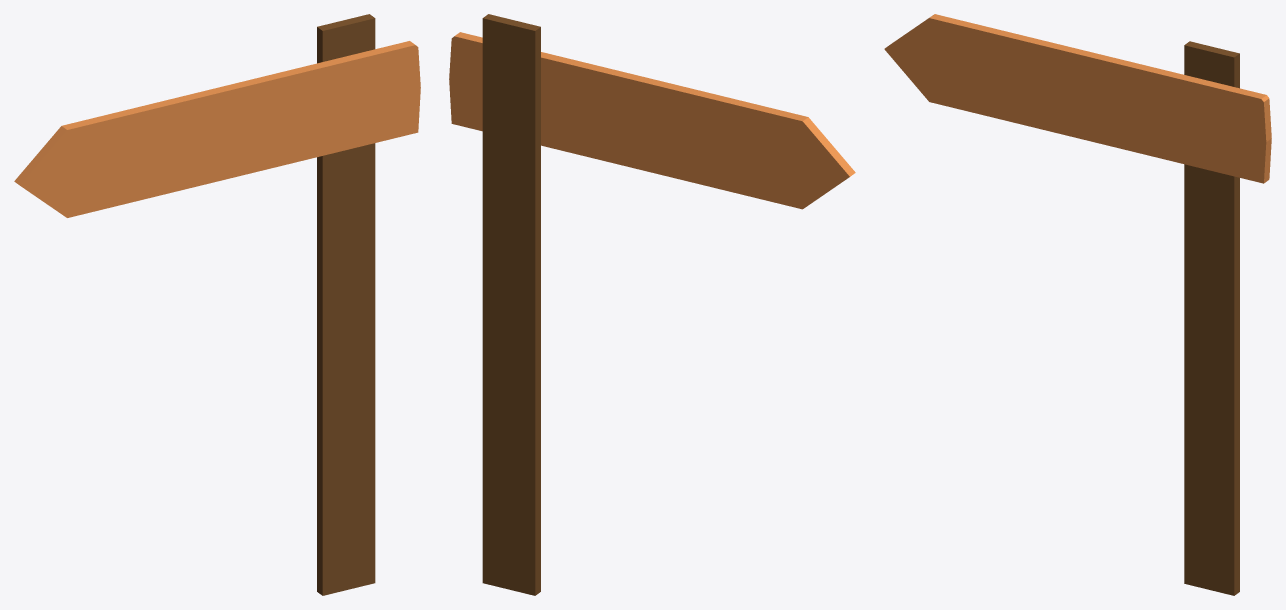
File: sign-public-speaking.glb
The picture shows the model from 3 angles, left to right: view 1: azimuth 30°, elevation 25°; view 2: azimuth 150°, elevation 25°; view 3: azimuth 330°, elevation 25°; orthographic projection. The views are drawn at different scales.
Visible parts, largest first — view 1: Sign1; view 2: Sign1; view 3: Sign1.
Boxes of the visible parts, x1=… form: Sign1: x1=14, y1=14, x2=420, y2=595; Sign1: x1=449, y1=14, x2=855, y2=595; Sign1: x1=884, y1=14, x2=1271, y2=595.
Size of the model in its own units: 5.97 by 8.04 by 0.3037.
